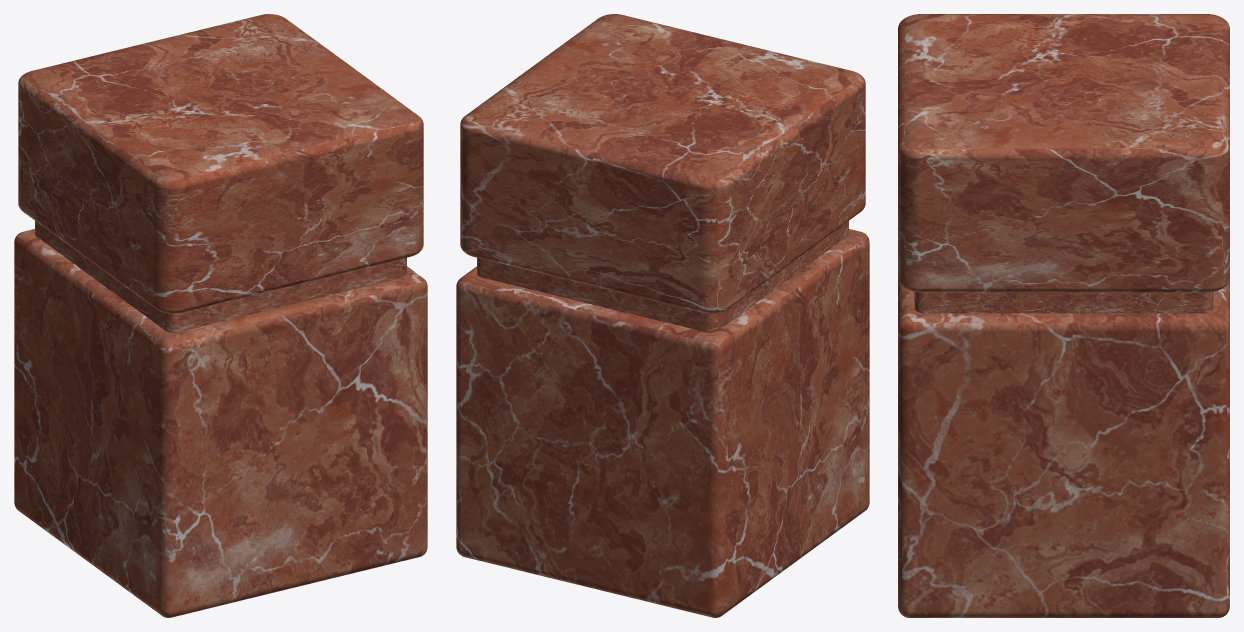
File: shortDarkFlatSquare.glb
The picture shows the model from 3 angles, left to right: view 1: azimuth 30°, elevation 25°; view 2: azimuth 150°, elevation 25°; view 3: azimuth 270°, elevation 25°; orthographic projection. The views are drawn at different scales.
Visible parts, largest first — view 1: shortDarkFlatSquare; view 2: shortDarkFlatSquare; view 3: shortDarkFlatSquare.
Part boxes in pixels (x1,y1,x2,y2): shortDarkFlatSquare: [14, 14, 427, 617]; shortDarkFlatSquare: [456, 14, 869, 617]; shortDarkFlatSquare: [898, 14, 1229, 617].
Size of the model in its own units: 2 by 3.15 by 2.
Materials: 3 (3 with a texture image).
